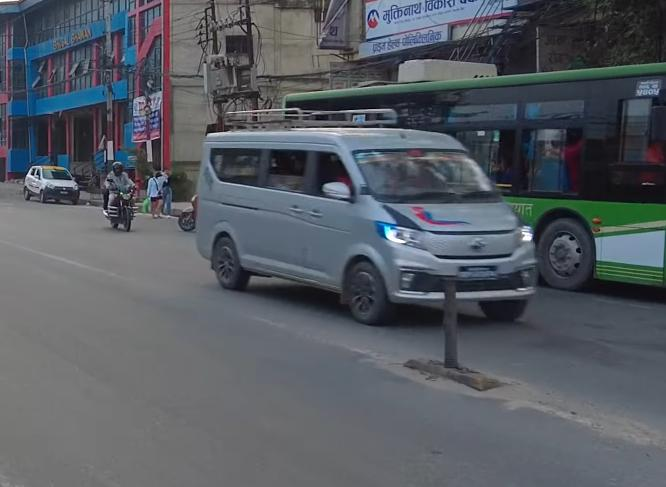bike: (101, 175, 140, 235)
micro_bus: (190, 120, 542, 330)
taxi: (22, 163, 84, 206)
